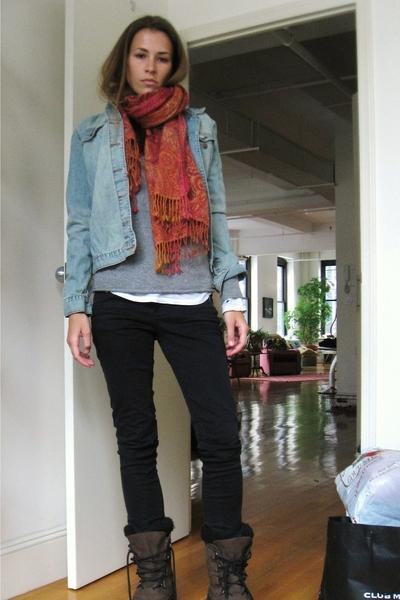jacket: (55, 90, 247, 317)
pants: (86, 291, 251, 543)
shoe: (120, 530, 253, 599)
